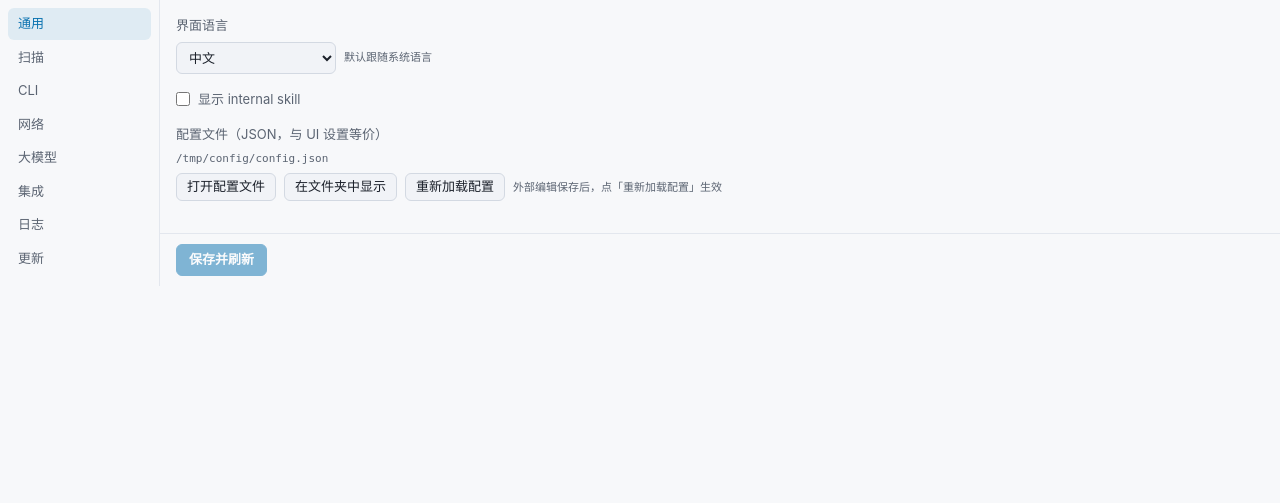
SettingsView LLM › applies provider presets and tests the connection
Click the button "大模型" at (80, 158), box [8,142,151,174]
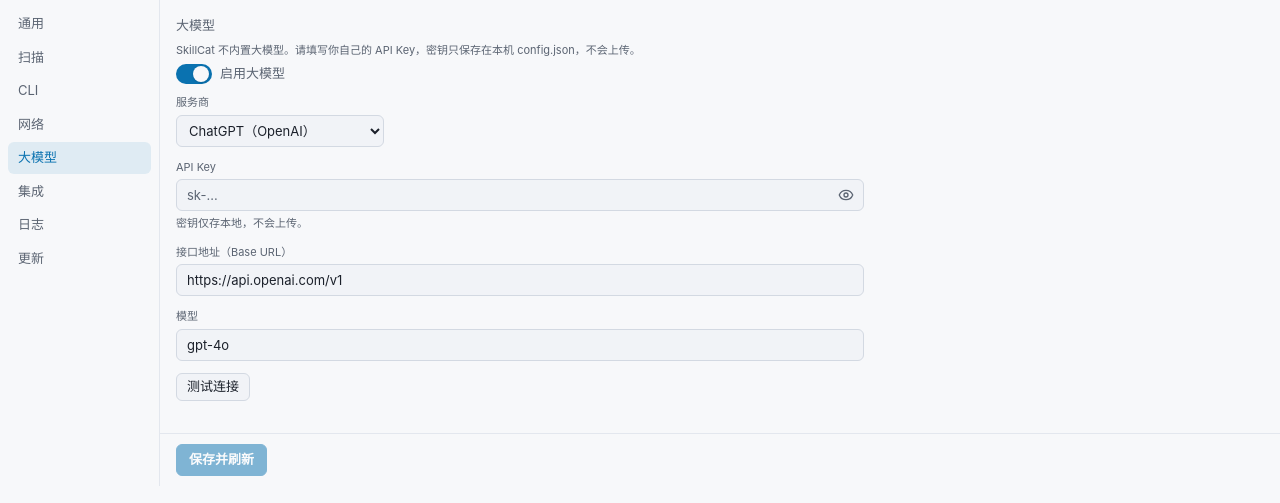
Select "DeepSeek" in the dropdown named "服务商" at (280, 130), box [176,114,384,146]
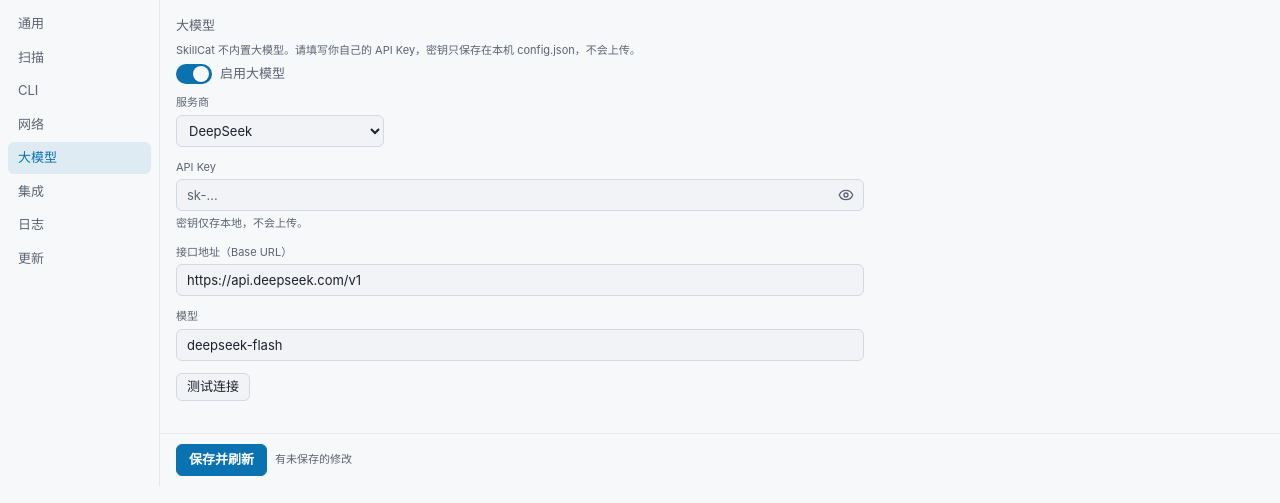
Now the field showing "https://api.deepseek.com/v1" below "接口地址（Base URL）" is shown, box [176,264,864,296]
Now the 2nd field showing "deepseek-flash" is shown, box [176,328,864,360]
Click the button "测试连接" at (213, 386), box [176,372,250,400]
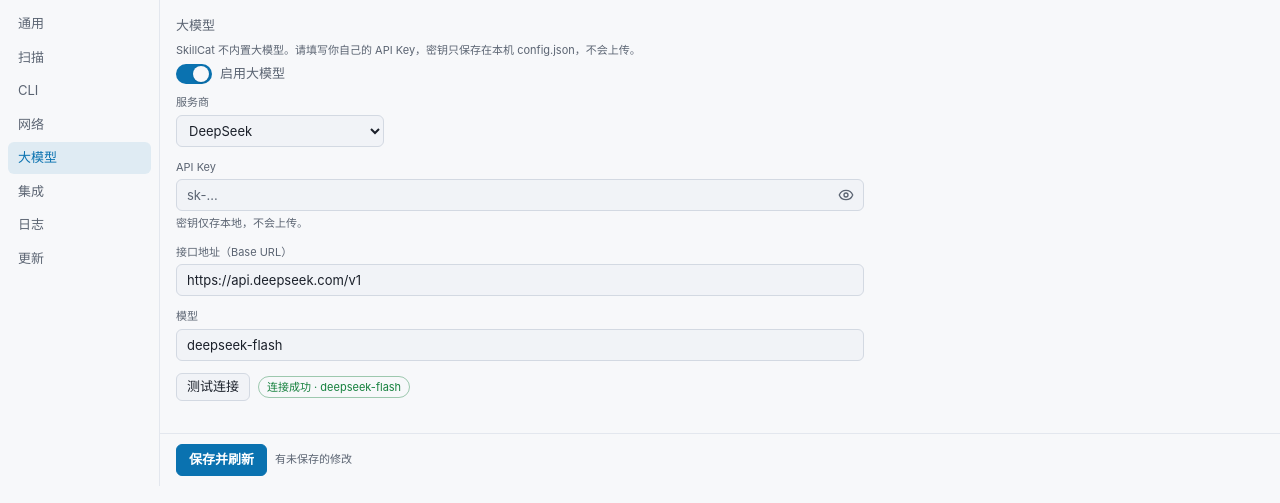
Now the text "连接成功 · deepseek-flash" is shown, box [258,376,410,398]
